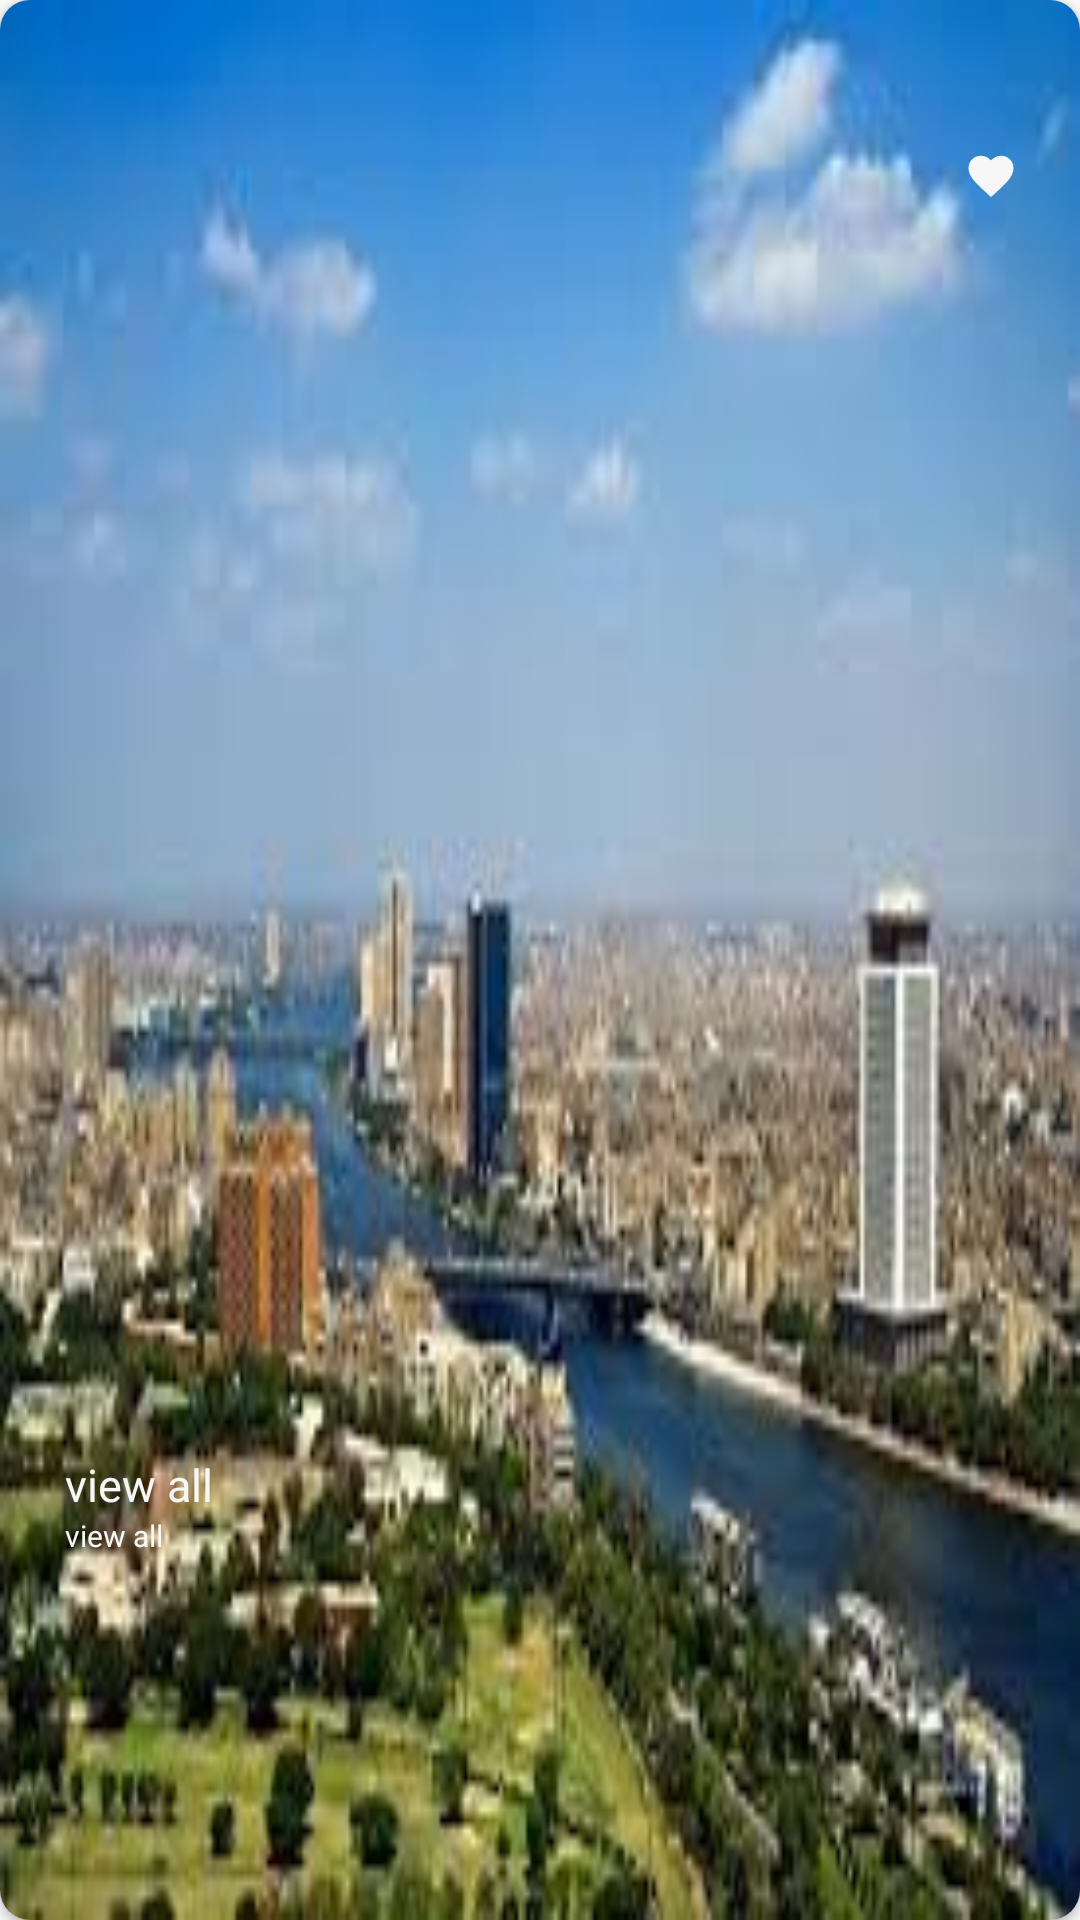

Icons on this 1080px x 1920px Android screen, each with its box as {"left": x1, "top": y1, "right": x2, "bottom": y2}:
favorite: {"left": 968, "top": 155, "right": 1014, "bottom": 197}
